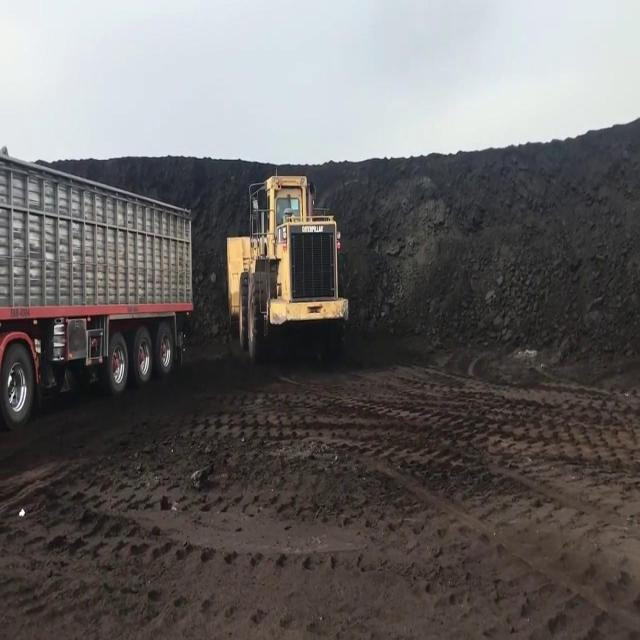buldozerpayloadergrader: (228, 171, 346, 361)
dump_truck: (0, 149, 192, 430)
